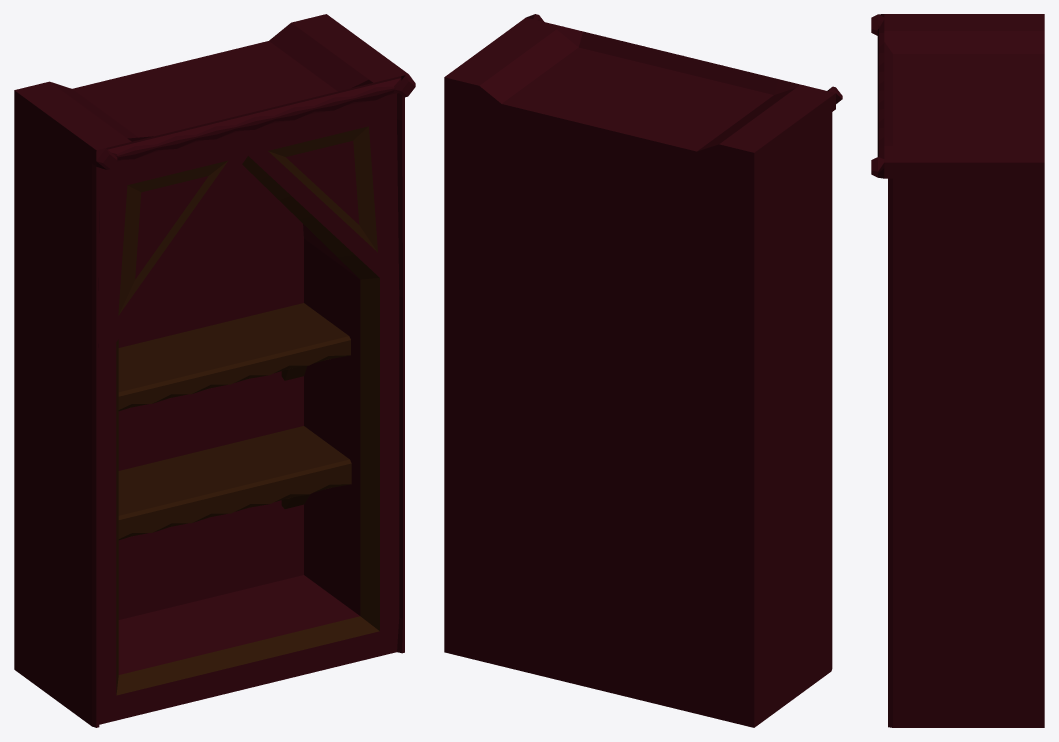
The model's file is AlchemyShelf.fbx.
3 renders of one model, left to right at view 1: azimuth 30°, elevation 25°; view 2: azimuth 150°, elevation 25°; view 3: azimuth 270°, elevation 25°, orthographic. The views are drawn at different scales.
Visible parts, largest first — view 1: Cube; view 2: Cube; view 3: Cube.
Boxes of the visible parts, <box> form: Cube: <box>14,14,415,727</box>; Cube: <box>444,14,842,727</box>; Cube: <box>871,14,1044,727</box>.
Size of the model in its own units: 219 by 382 by 106.
